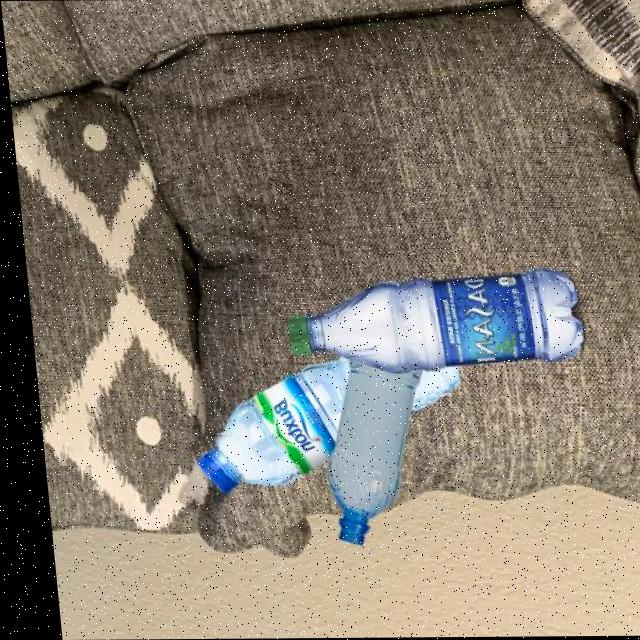plasticbottlecap: (168, 433, 237, 511)
